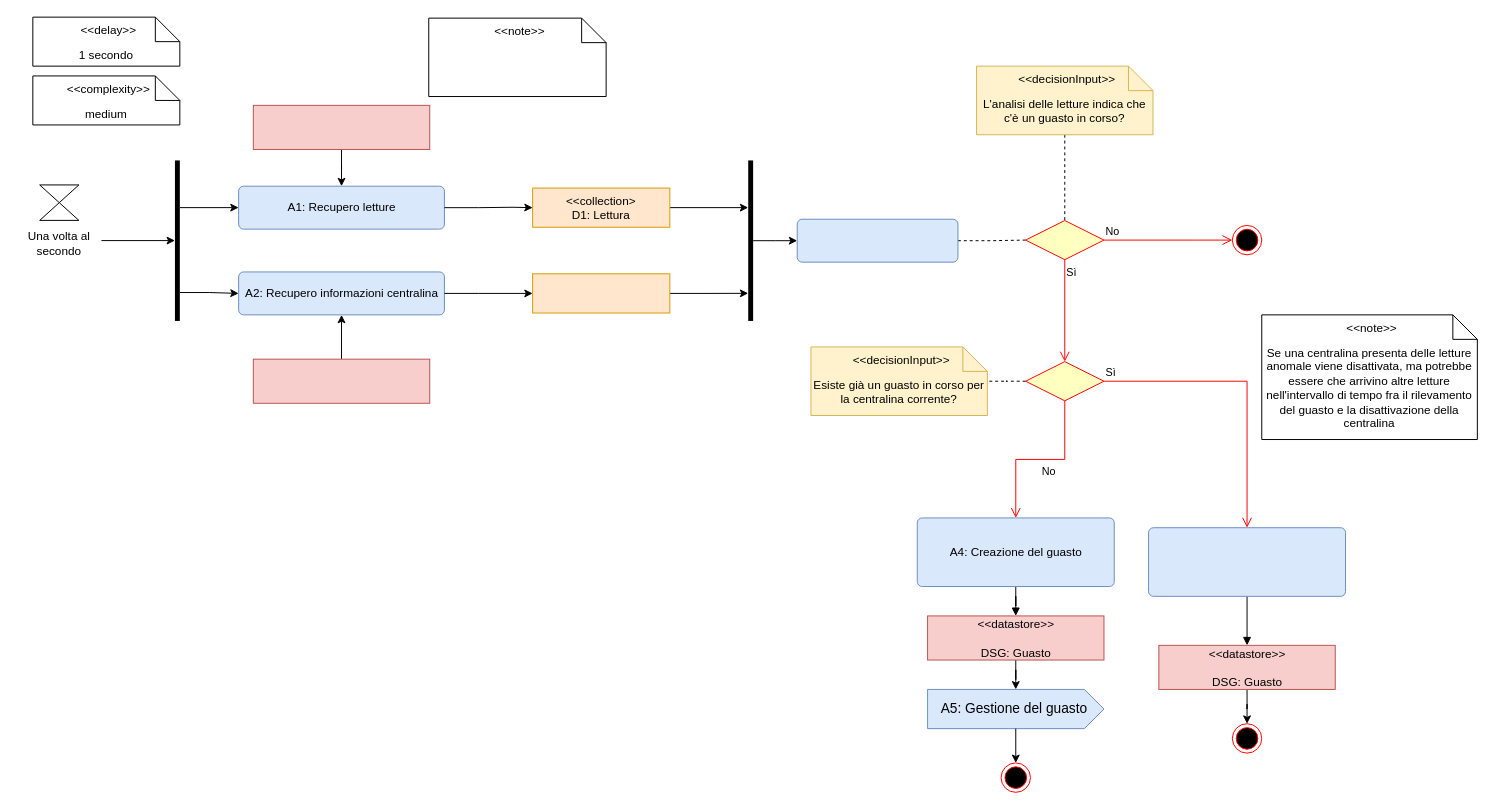
Some shapes in this 1495 by 809 pixel diagram are drawn without their labels. Each missing label, with the centre of its shape:
"<<datastore>> DLC: Centralina" goes at (341,380).
"<<datastore>> DSLC: Lettura" goes at (341,126).
"A2: Analisi delle letture" goes at (877,240).
"A3: Aggiornamento del guasto con le ultime letture" goes at (1247,561).
"D2: Centralina" goes at (601,293).
"Vengono recuperate solo le letture nuove rispetto all'ultima esecuzione" goes at (517,57).
